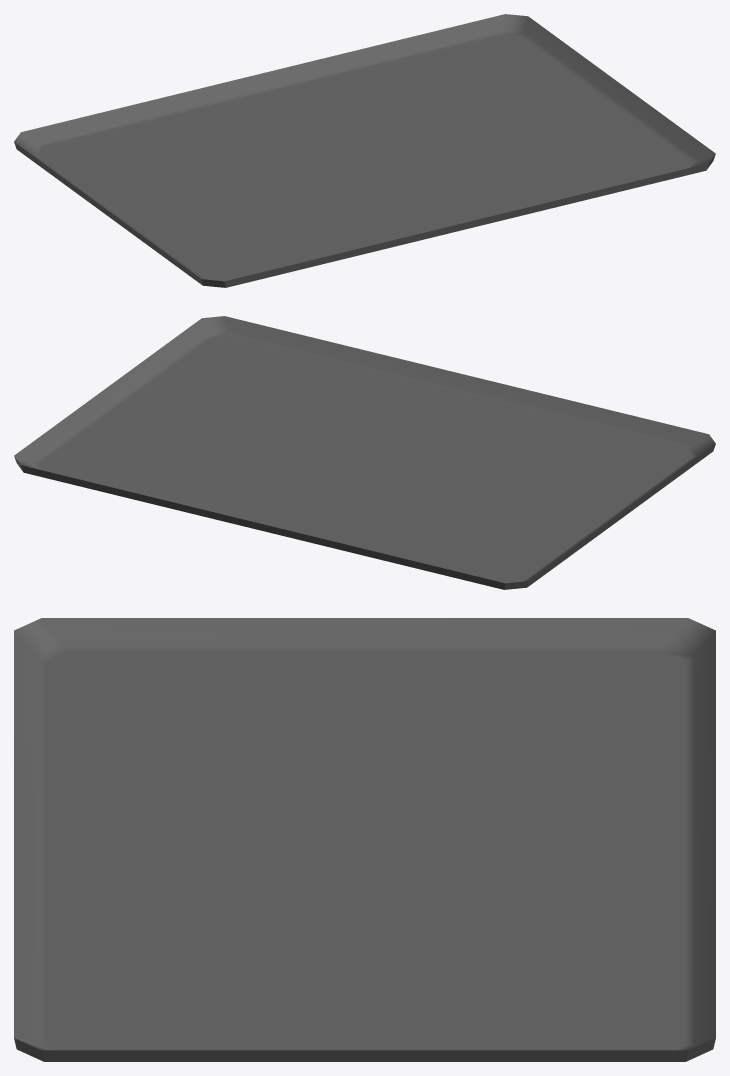
The model's file is tray.fbx.
The picture shows the model from 3 angles, top to bottom: view 1: azimuth 30°, elevation 25°; view 2: azimuth 150°, elevation 25°; view 3: azimuth 270°, elevation 25°; orthographic projection. The views are drawn at different scales.
Parts seen in each view (by area): view 1: Cube.010; view 2: Cube.010; view 3: Cube.010.
Boxes of the visible parts, box(x1,y1,x2,y2) form: Cube.010: box(14, 14, 715, 287); Cube.010: box(14, 316, 715, 589); Cube.010: box(14, 618, 715, 1061).
Size of the model in its own units: 172 by 4.3 by 118.
